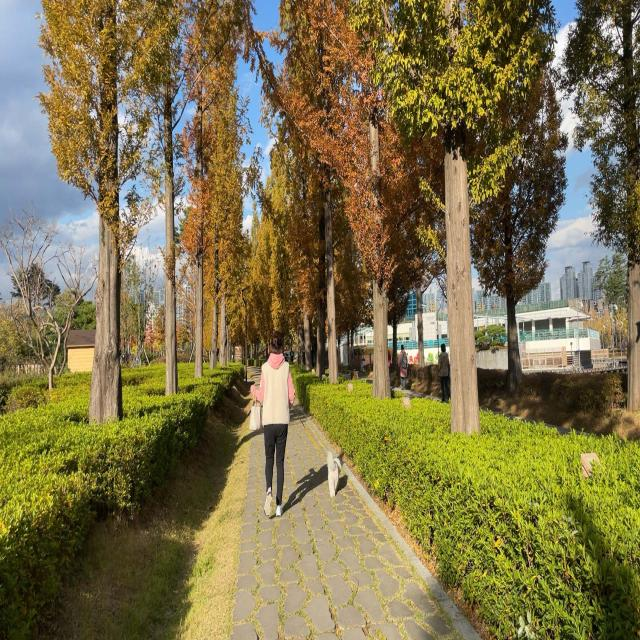Leashed_Dog: (279, 397, 341, 500)
